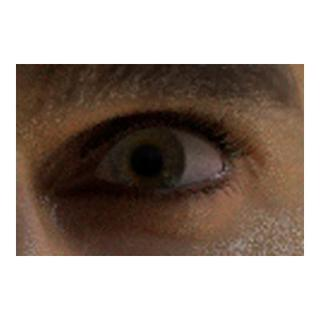pupil: (132, 146, 161, 175)
